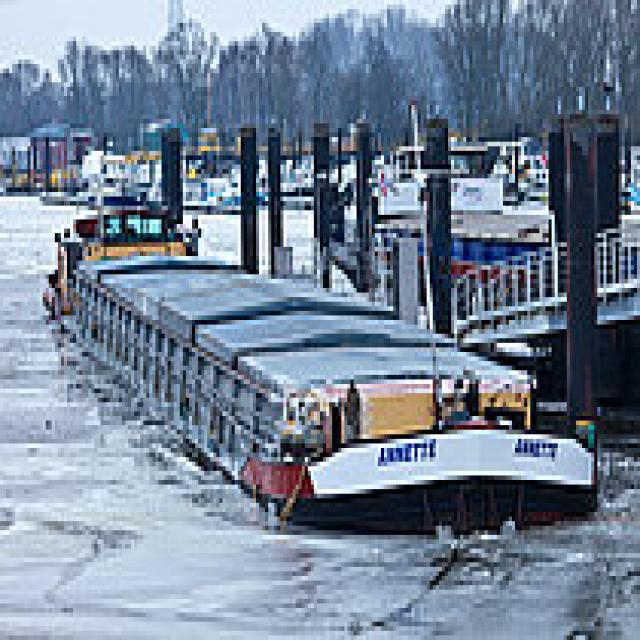Ship: (47, 166, 605, 541)
